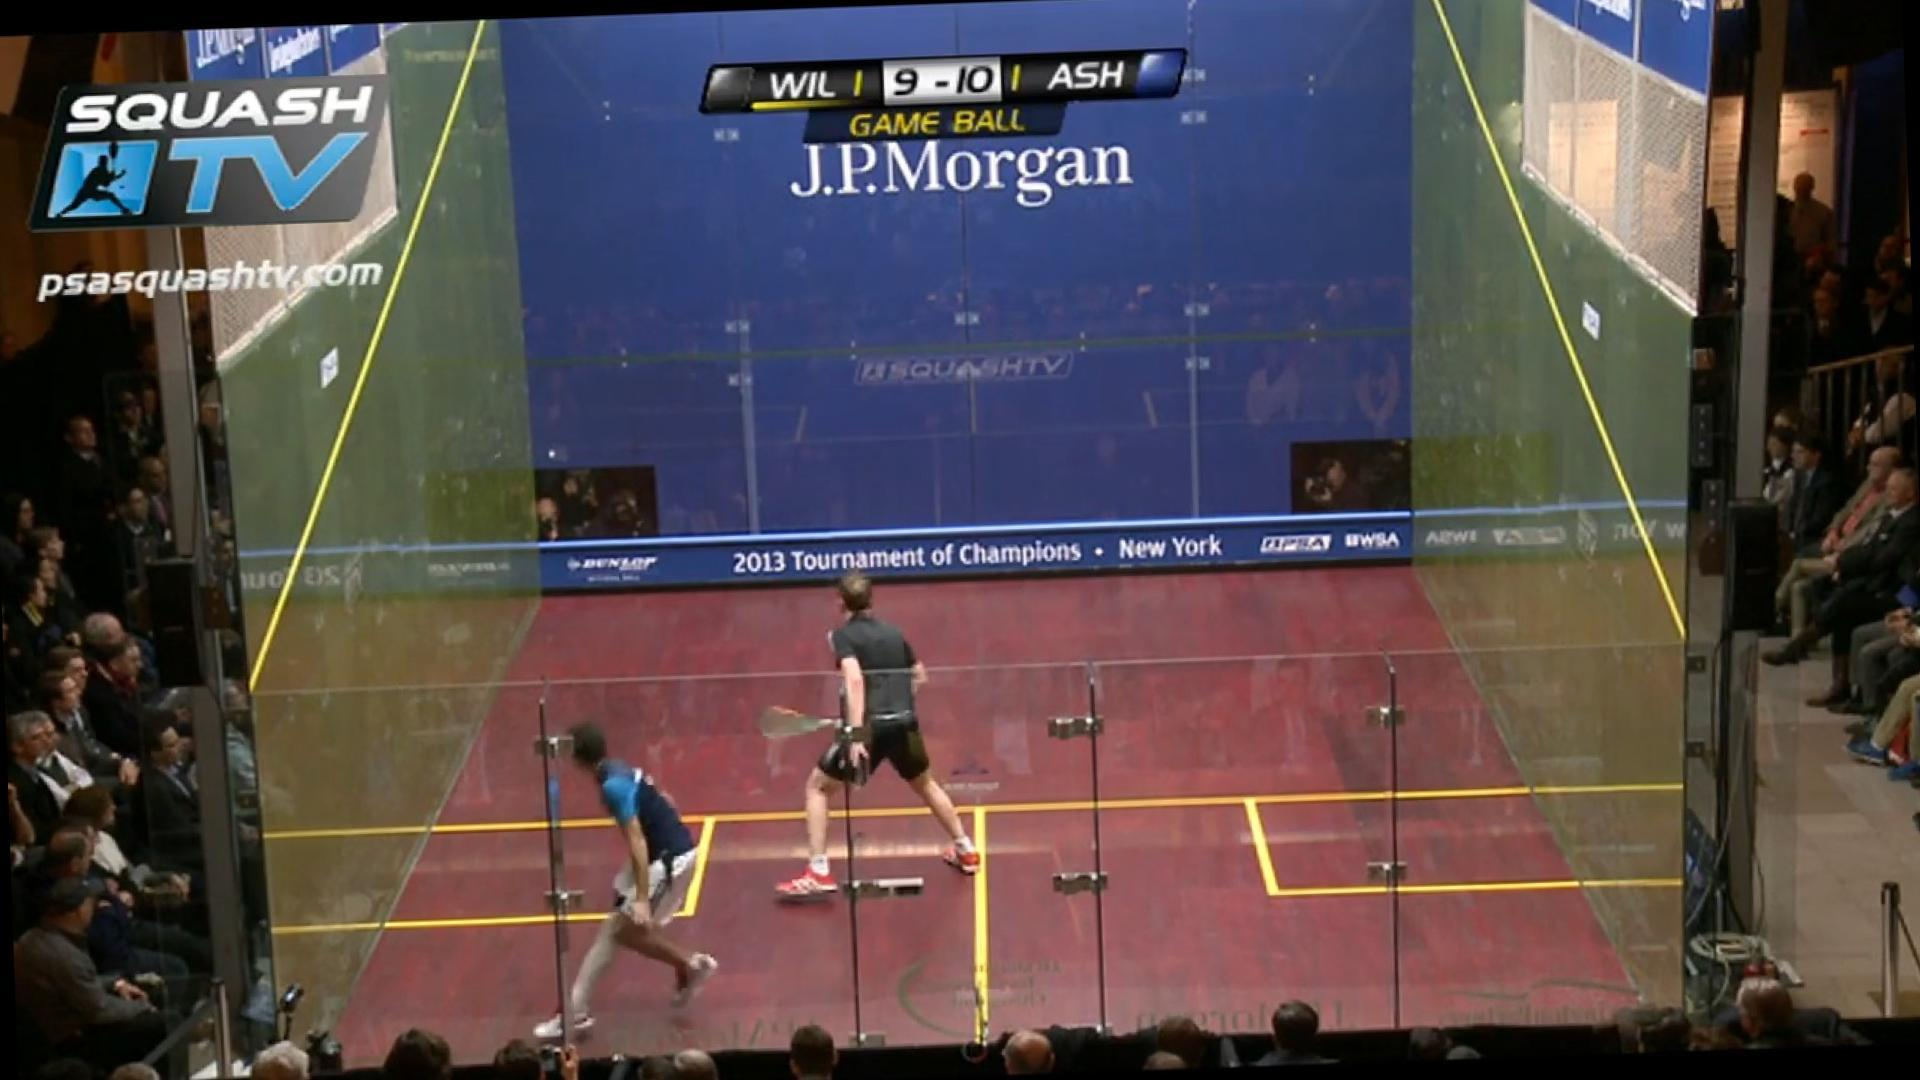Squash-Ball: (545, 430, 562, 465)
